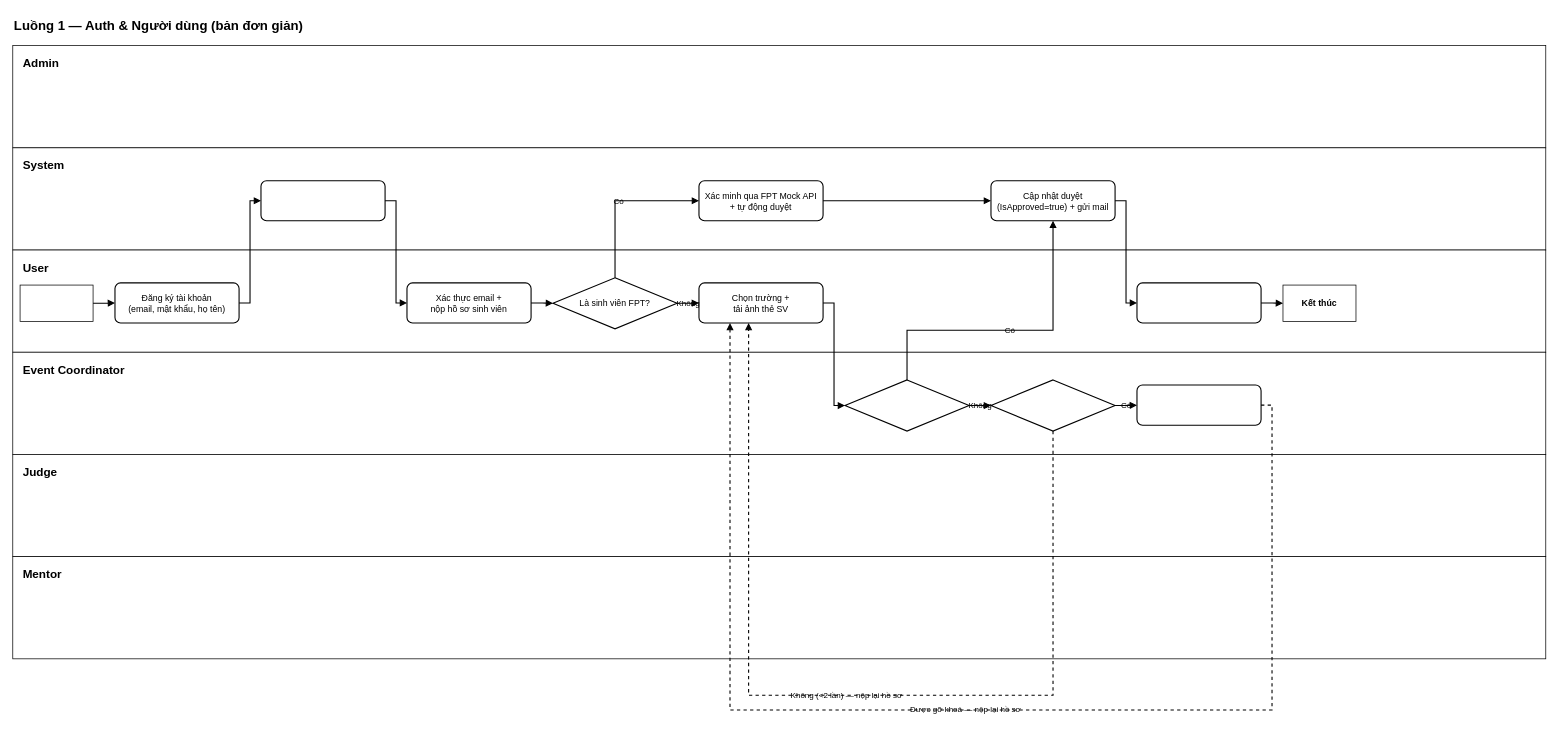
The diagram is 1559 pixels wide and 729 high, and some of its shapes have lost their labels. The shapes that lost their labels are listed below. From the top down, each one's centre as x and y in pixels, then its label:
At (x=322, y=200): "Gửi email xác thực".
At (x=56, y=303): "Bắt đầu".
At (x=1198, y=302): "Đăng nhập (JWT access + refresh token)".
At (x=906, y=405): "Duyệt hồ sơ? (Event Coordinator)".
At (x=1052, y=405): "Đã bị từ chối ≥ 2 lần?".
At (x=1198, y=404): "Khoá tài khoản (chờ Event Coordinator gỡ khoá)".
